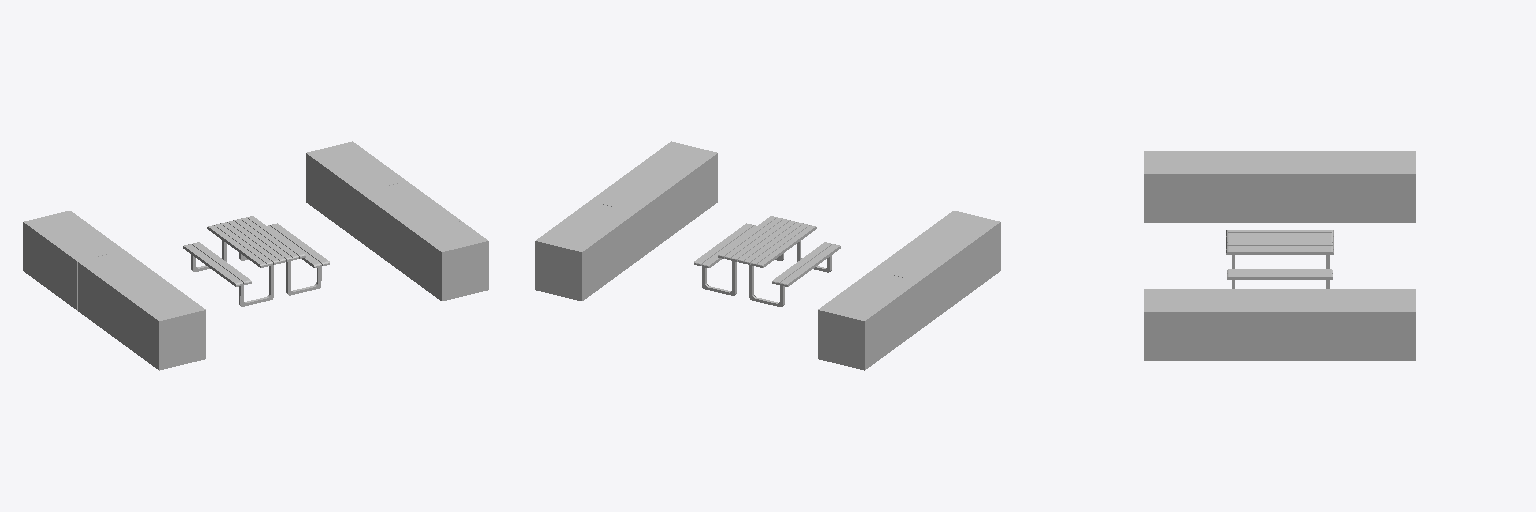
3 renders of one model, left to right at view 1: azimuth 30°, elevation 25°; view 2: azimuth 150°, elevation 25°; view 3: azimuth 270°, elevation 25°, orthographic.
Parts seen in each view (by area): view 1: Cube.004, Cube.005, Cube.001, Cube.007, wood_1_Plane, Cube.006, Cube.009, Cube, Cube.002, Cube.008, Cube.003, metal_stand_Cube.012 (+2 smaller); view 2: Cube.003, Cube.006, Cube.002, Cube.008, wood_1_Plane, Cube, Cube.009, Cube.005, Cube.001, Cube.007, Cube.004, metal_stand_Cube.012 (+2 smaller); view 3: Cube.001, Cube.002, Cube.007, Cube.008, Cube, Cube.003, Cube.004, Cube.005, Cube.006, Cube.009, wood_1_Plane, wood2_Plane.001.
Boxes of the visible parts, x1,y1,x2,y2 form: Cube.004: [132, 290, 205, 370]; Cube.005: [415, 221, 488, 300]; Cube.001: [50, 230, 123, 310]; Cube.007: [387, 201, 460, 281]; wood_1_Plane: [207, 216, 305, 267]; Cube.006: [306, 141, 378, 221]; Cube.009: [360, 181, 433, 260]; Cube: [78, 250, 150, 330]; Cube.002: [105, 270, 177, 349]; Cube.008: [333, 161, 405, 240]; Cube.003: [23, 211, 95, 289]; metal_stand_Cube.012: [191, 240, 321, 306]; Cube.003: [818, 290, 891, 370]; Cube.006: [535, 221, 608, 300]; Cube.002: [900, 230, 973, 310]; Cube.008: [563, 201, 636, 281]; wood_1_Plane: [718, 216, 816, 267]; Cube: [873, 250, 945, 330]; Cube.009: [590, 181, 663, 260]; Cube.005: [645, 141, 717, 221]; Cube.001: [846, 270, 918, 349]; Cube.007: [618, 161, 690, 240]; Cube.004: [928, 211, 1000, 289]; metal_stand_Cube.012: [702, 241, 831, 306]; Cube.001: [1307, 151, 1361, 222]; Cube.002: [1198, 151, 1252, 222]; Cube.007: [1198, 289, 1252, 360]; Cube.008: [1307, 289, 1361, 360]; Cube: [1253, 151, 1306, 222]; Cube.003: [1362, 151, 1415, 222]; Cube.004: [1144, 151, 1197, 222]; Cube.005: [1144, 289, 1197, 360]; Cube.006: [1362, 289, 1415, 360]; Cube.009: [1253, 289, 1306, 360]; wood_1_Plane: [1226, 230, 1333, 254]; wood2_Plane.001: [1227, 269, 1332, 279].
Size of the model in its own units: 14 by 2 by 10.